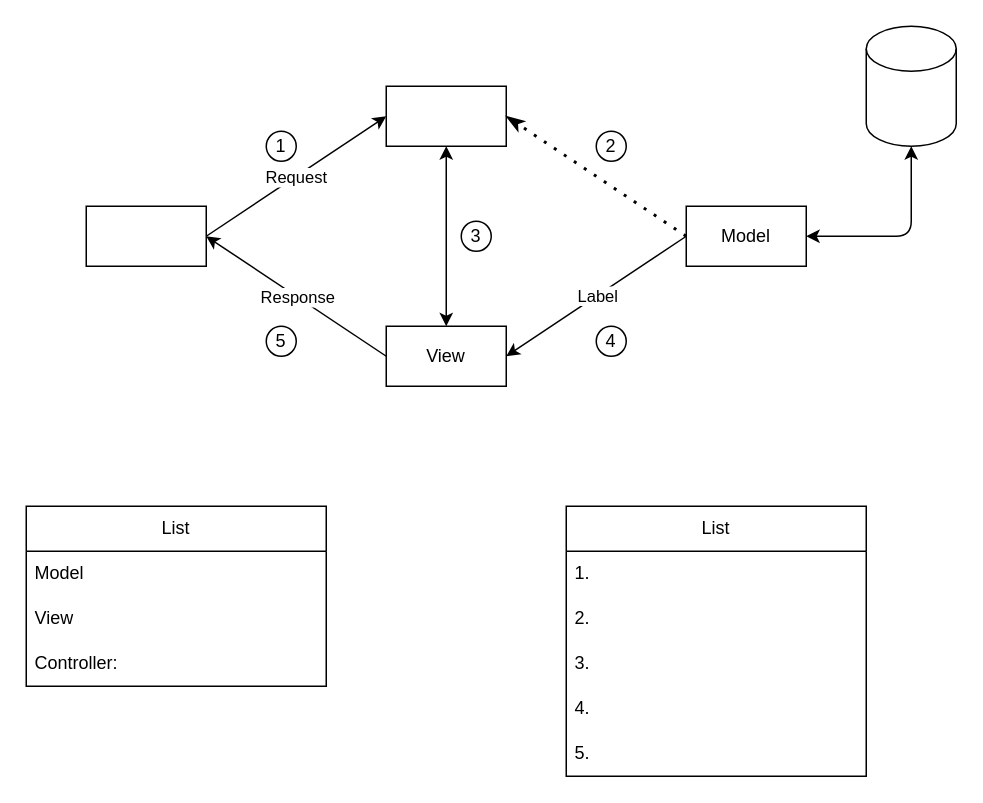
Some shapes in this 983 by 803 pixel diagram are drawn without their labels. Each missing label, with the centre of its shape:
"Client" goes at pixel 145 235.
"Controller" goes at pixel 445 115.
"DB" goes at pixel 910 85.
